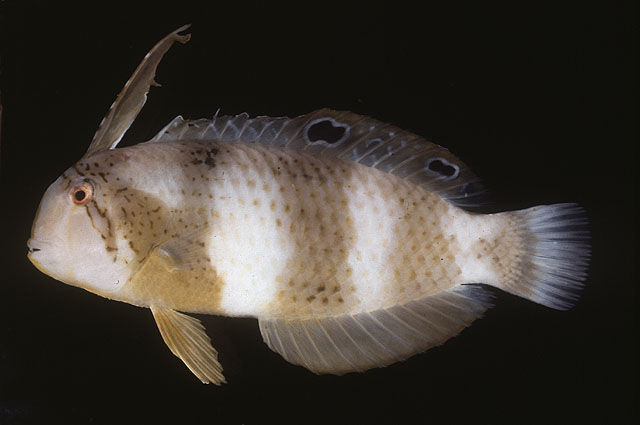fish: (27, 24, 592, 384)
